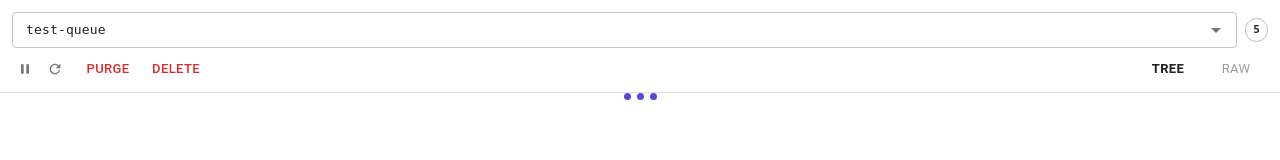
<QueueColumn /> › renders a chip in the dropdown option when queue has messages
Press the mouse on the dropdown showing "test-queue" at (608, 30), box 18,18 -> 1198,42
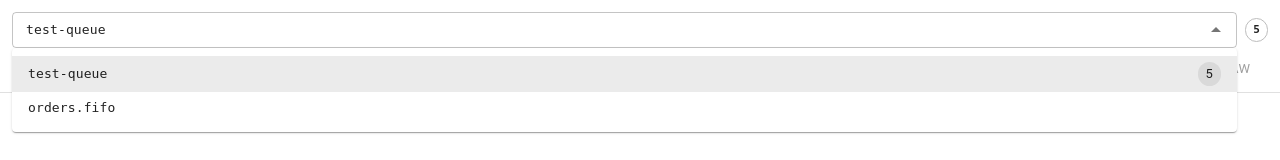
Expected: the 1st text "5" is shown, 1253,23 -> 1260,36
Expected: the list is shown, 12,48 -> 1237,132
